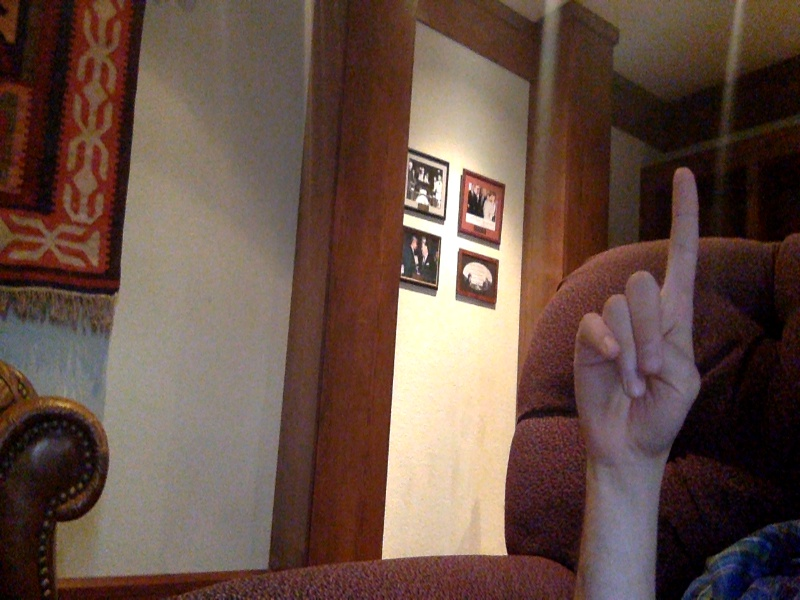1-hand: (572, 167, 701, 458)
